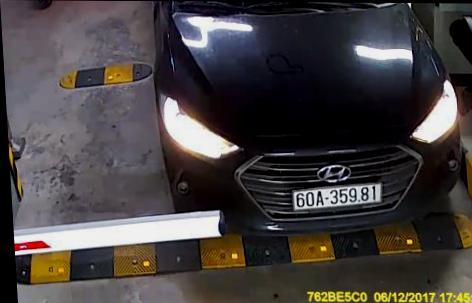License_Plate: (289, 182, 385, 212)
